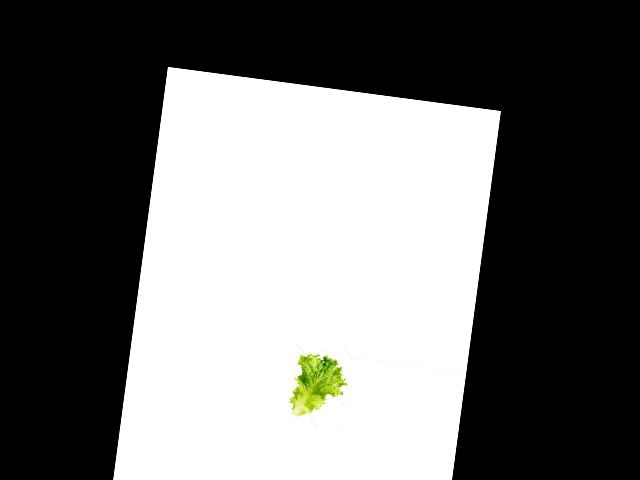lettuce: (290, 351, 349, 423)
